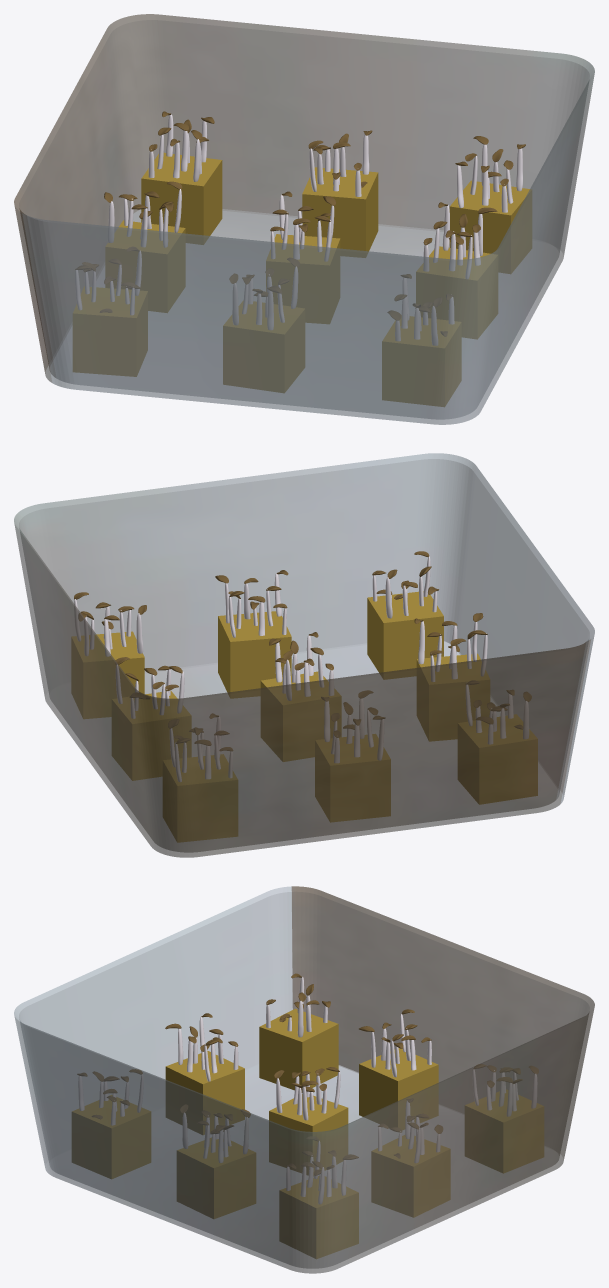
File: secondPotPreview.glb
3 renders of one model, top to bottom at view 1: azimuth 30°, elevation 25°; view 2: azimuth 150°, elevation 25°; view 3: azimuth 270°, elevation 25°, orthographic. The views are drawn at different scales.
Parts seen in each view (by area): view 1: 2bottomlid, rocwoll4, rocwoll7, rocwoll1, rocwoll8, rocwoll3, rocwoll6, rocwoll2, rocwoll9, rocwoll5, see9.2, see8.2 (+7 smaller); view 2: 2bottomlid, rocwoll1, rocwoll2, rocwoll3, rocwoll5, rocwoll7, rocwoll6, rocwoll9, rocwoll8, rocwoll4, see8.2, see5.2 (+7 smaller); view 3: 2bottomlid, rocwoll6, rocwoll7, rocwoll9, rocwoll3, rocwoll8, rocwoll1, rocwoll2, rocwoll4, rocwoll5, see4.2, see2.2 (+7 smaller).
Boxes of the visible parts, box(x1,y1,x2,y2) form: 2bottomlid: box(14, 14, 594, 424); rocwoll4: box(223, 301, 304, 392); rocwoll7: box(382, 316, 461, 406); rocwoll1: box(73, 286, 147, 376); rocwoll8: box(416, 246, 497, 339); rocwoll3: box(141, 152, 222, 244); rocwoll6: box(302, 167, 378, 257); rocwoll2: box(105, 220, 185, 312); rocwoll9: box(449, 180, 531, 273); rocwoll5: box(266, 234, 340, 323); see9.2: box(455, 136, 525, 212); see8.2: box(423, 202, 497, 278); 2bottomlid: box(14, 453, 594, 857); rocwoll1: box(458, 714, 537, 804); rocwoll2: box(315, 734, 390, 822); rocwoll3: box(163, 754, 237, 842); rocwoll5: box(260, 671, 341, 761); rocwoll7: box(367, 591, 443, 679); rocwoll6: box(112, 691, 191, 780); rocwoll9: box(71, 631, 144, 718); rocwoll8: box(218, 611, 291, 698); rocwoll4: box(416, 653, 489, 741); see8.2: box(215, 570, 288, 637); see5.2: box(269, 632, 333, 700); 2bottomlid: box(14, 886, 594, 1273); rocwoll6: box(371, 1135, 450, 1217); rocwoll7: box(72, 1095, 150, 1178); rocwoll9: box(279, 1176, 358, 1258); rocwoll3: box(465, 1089, 543, 1173); rocwoll8: box(177, 1138, 255, 1218); rocwoll1: box(259, 1008, 338, 1092); rocwoll2: box(359, 1048, 438, 1130); rocwoll4: box(165, 1051, 244, 1134); rocwoll5: box(269, 1094, 348, 1175); see4.2: box(165, 1013, 238, 1081); see2.2: box(359, 1009, 431, 1077).
Bounding box in the file's own units: 3.92 × 1.15 × 3.92.
Materials: 160 (1 with a texture image).
